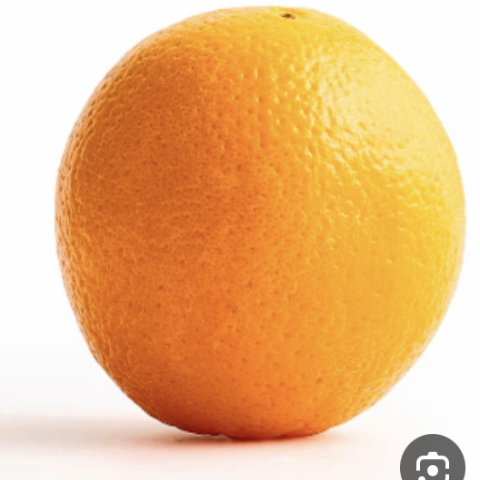orange: (12, 2, 480, 480)
